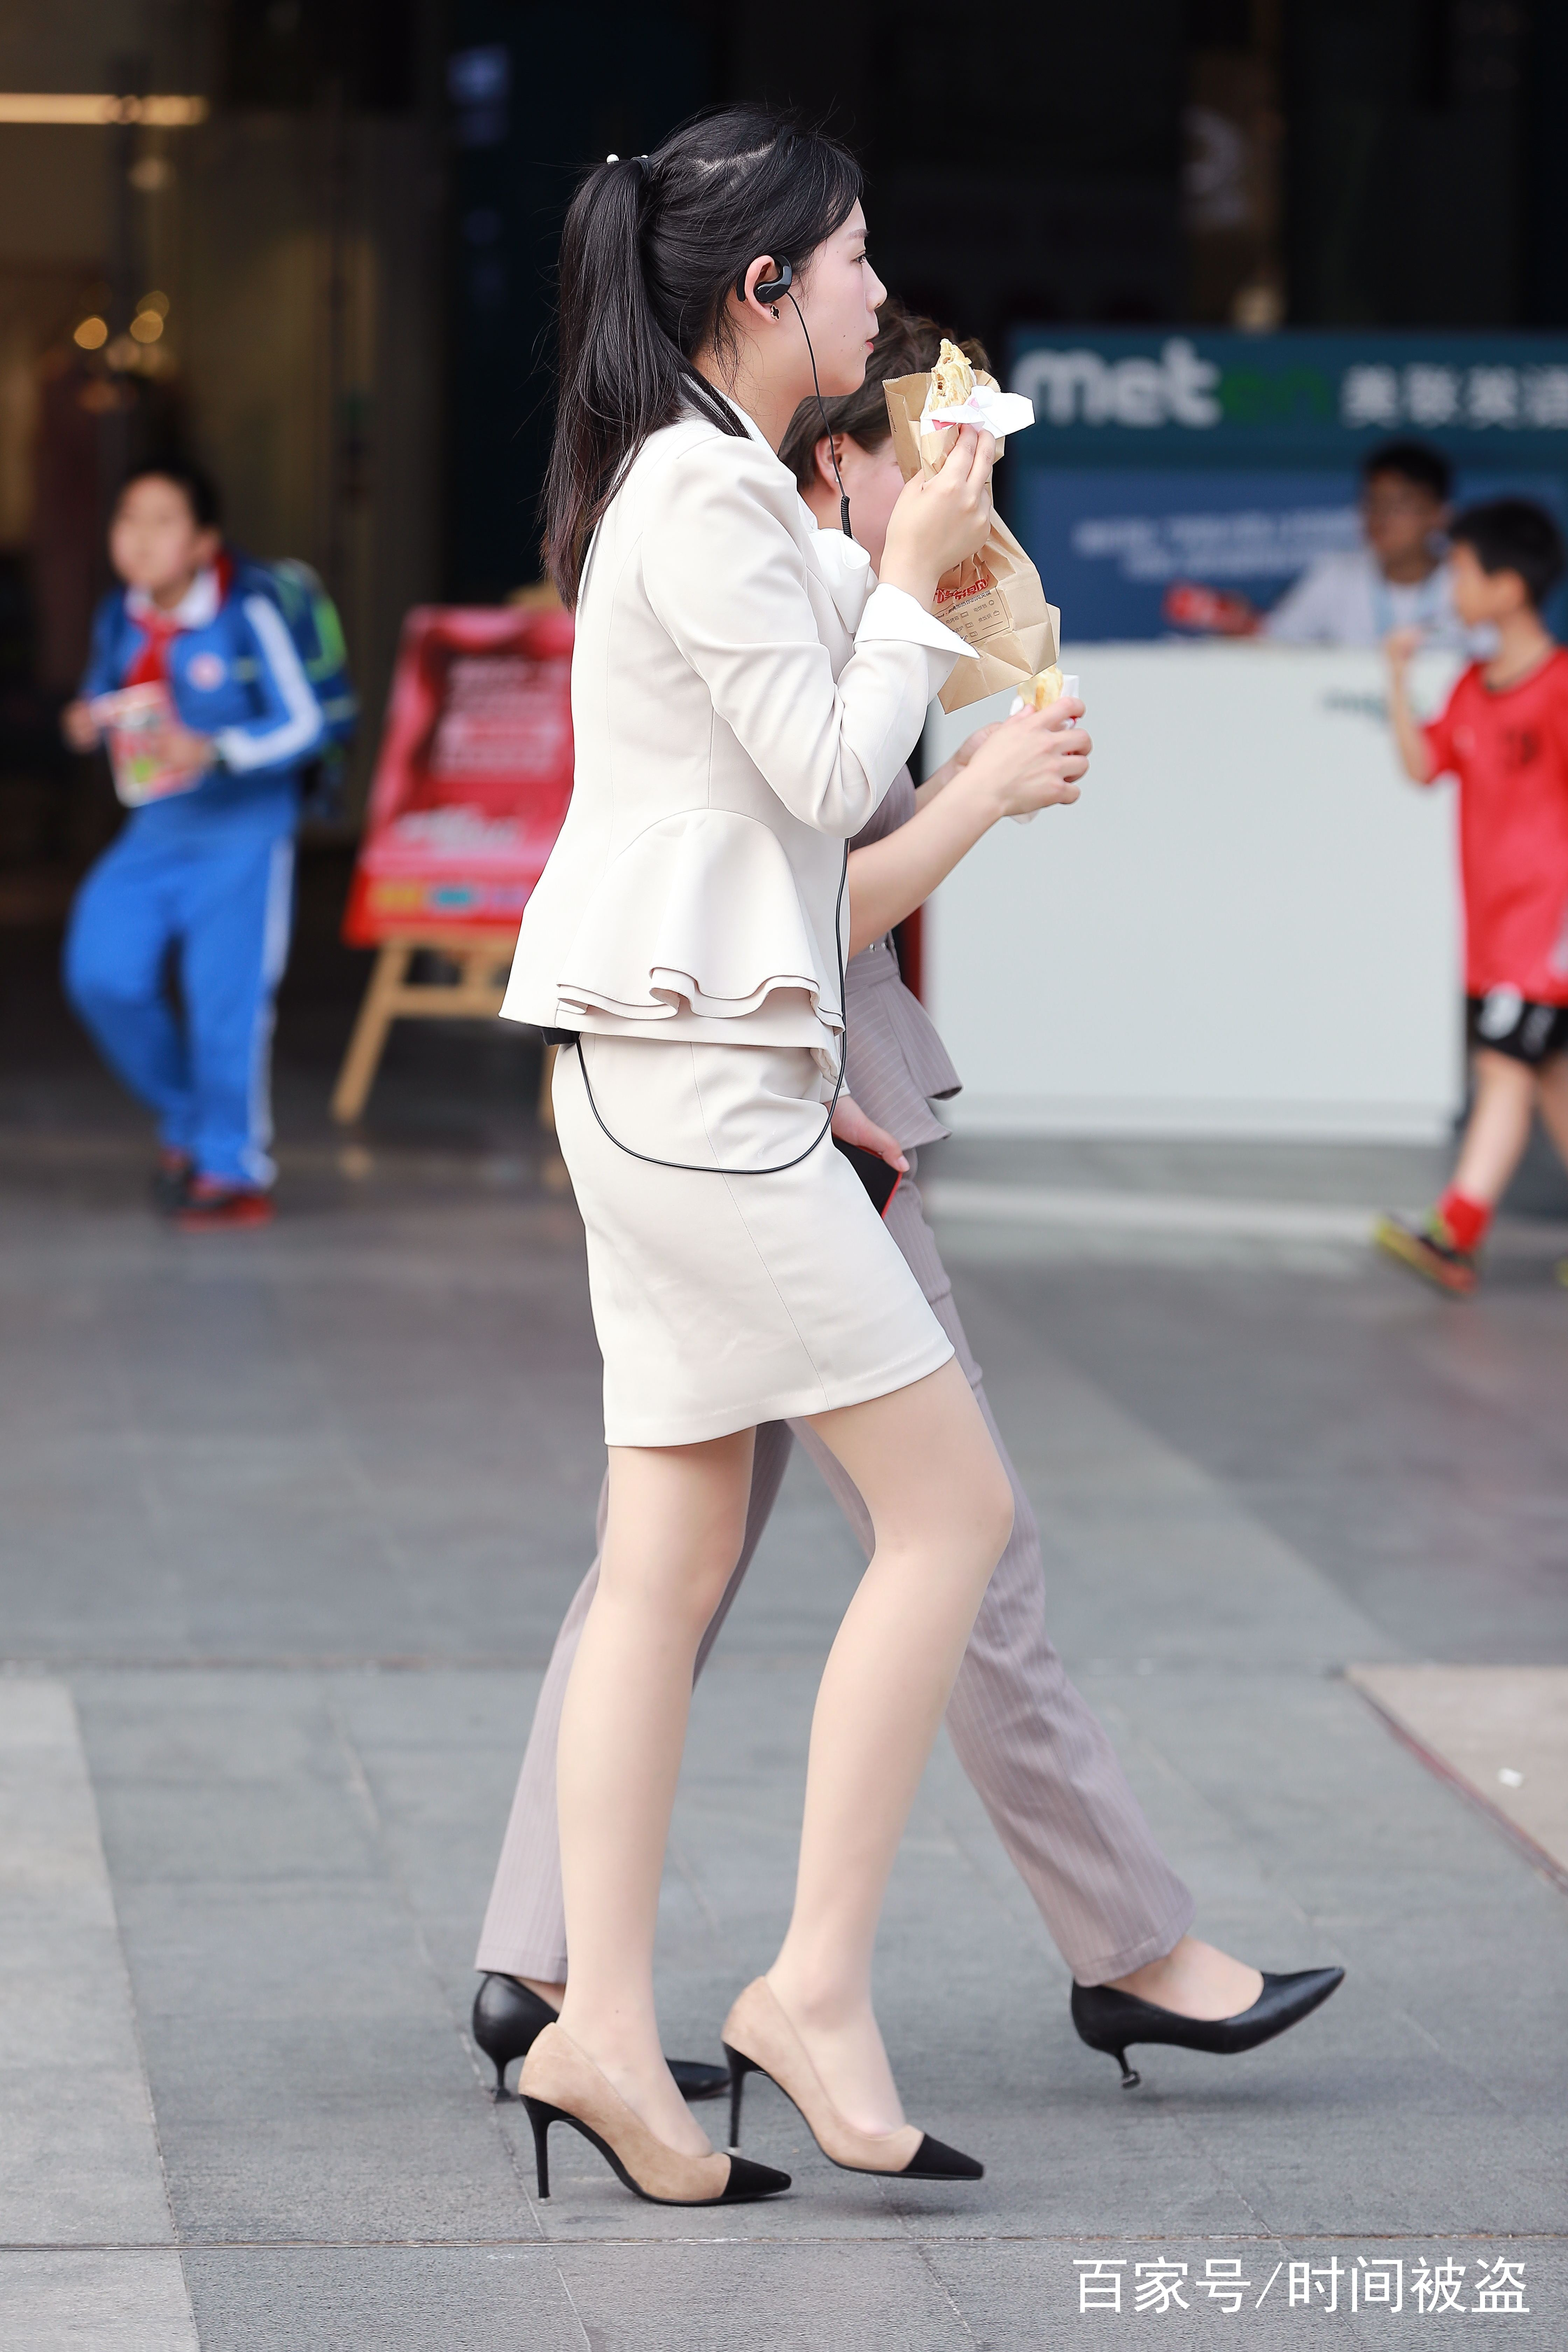person: (498, 121, 1155, 2141)
